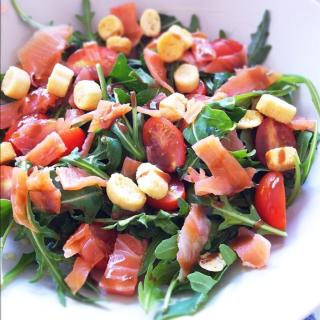tomato: (60, 226, 114, 296), (100, 232, 152, 296), (1, 108, 63, 156), (143, 116, 185, 176), (254, 114, 295, 169), (64, 42, 116, 82), (195, 39, 249, 76), (260, 170, 292, 226), (145, 180, 183, 214)
